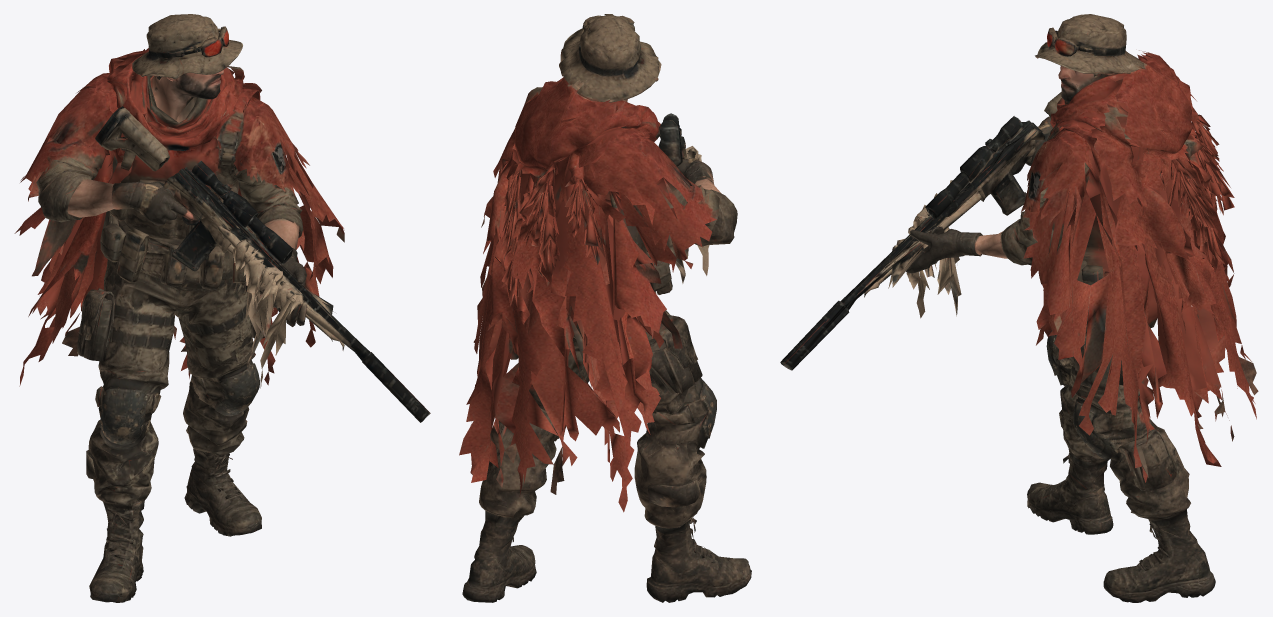
The model's file is ranger-meshy-v2.glb.
The picture shows the model from 3 angles, left to right: view 1: azimuth 30°, elevation 25°; view 2: azimuth 150°, elevation 25°; view 3: azimuth 270°, elevation 25°; orthographic projection. The views are drawn at different scales.
Bounding box in the file's own units: 0.4995 × 0.9507 × 0.7593.
1 material, 1 textured.
